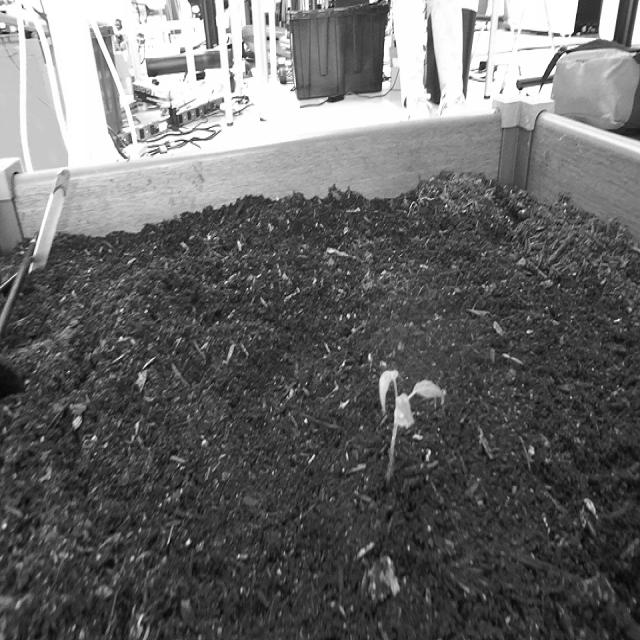Healthy: (372, 363, 451, 494)
